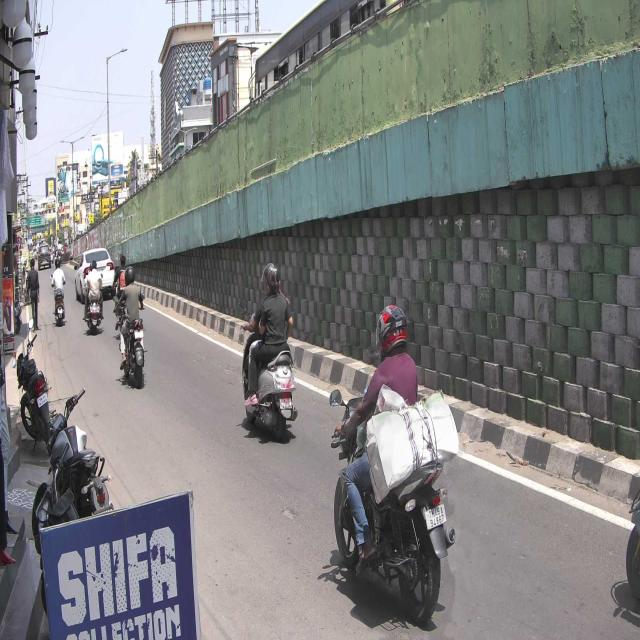double_rider: (239, 261, 299, 442)
single_rider: (330, 302, 458, 628)
